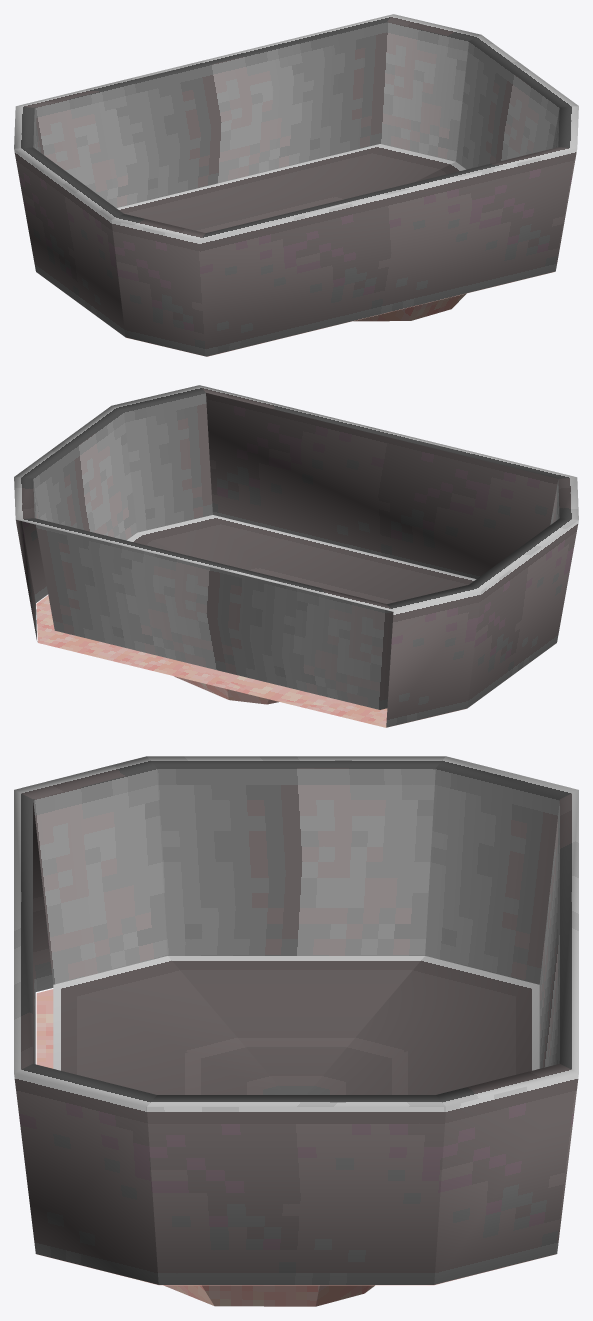
3 views of the same model, one above another, from view 1: azimuth 30°, elevation 25°; view 2: azimuth 150°, elevation 25°; view 3: azimuth 270°, elevation 25° (orthographic). The views are drawn at different scales.
Parts seen in each view (by area): view 1: ice_box1; view 2: ice_box1; view 3: ice_box1.
Part boxes in pixels (x1,y1,x2,y2): ice_box1: (14, 14, 578, 356); ice_box1: (14, 385, 578, 727); ice_box1: (14, 756, 578, 1306).
Size of the model in its own units: 0.6354 by 0.2268 by 0.4326.
Materials: 2 (2 with a texture image).
